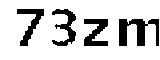3: (48, 8, 79, 49)
7: (12, 7, 46, 50)
m: (113, 15, 160, 55)
z: (80, 15, 109, 50)
